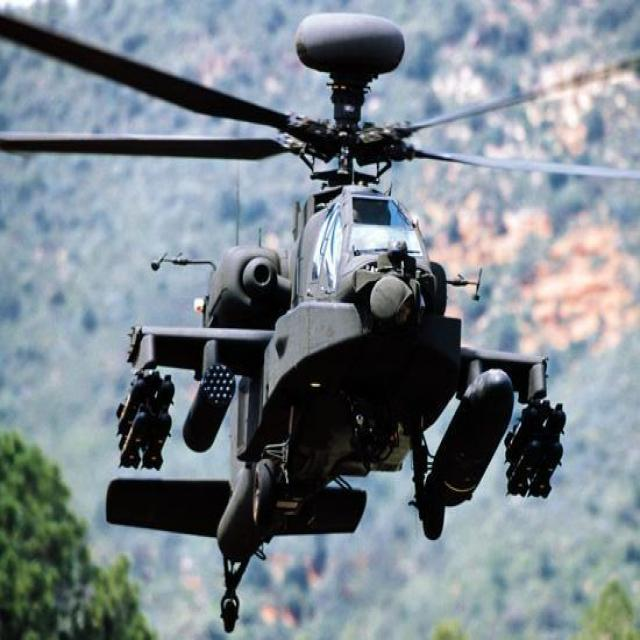MIL_HELO: (60, 8, 586, 624)
